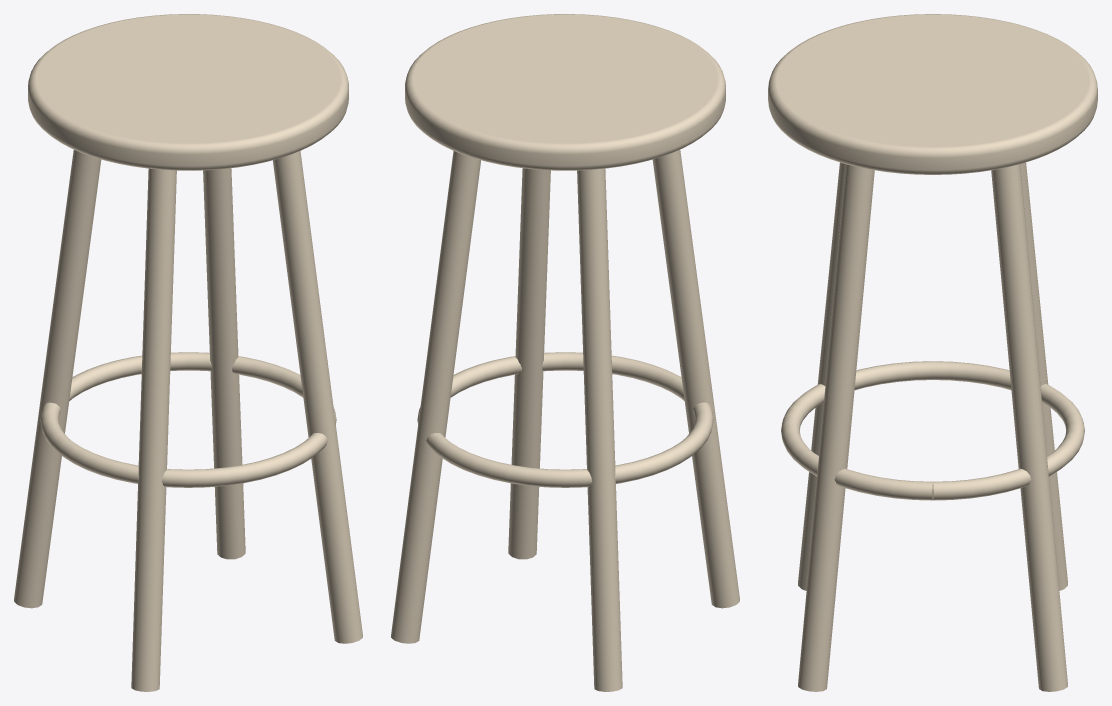
The model's file is stool_oak.glb.
3 renders of one model, left to right at view 1: azimuth 30°, elevation 25°; view 2: azimuth 150°, elevation 25°; view 3: azimuth 270°, elevation 25°, orthographic. The views are drawn at different scales.
Parts seen in each view (by area): view 1: seat, leg2, leg3, leg1, leg0, footrest; view 2: seat, leg1, leg0, leg2, leg3, footrest; view 3: seat, leg0, leg3, footrest, leg1, leg2.
Part boxes in pixels (x1,y1,x2,y2): seat: (28, 14, 348, 170); leg2: (131, 168, 176, 691); leg3: (273, 151, 362, 643); leg1: (14, 150, 101, 608); leg0: (203, 168, 245, 559); footrest: (40, 352, 336, 487); seat: (405, 14, 725, 170); leg1: (577, 168, 622, 691); leg0: (391, 151, 480, 643); leg2: (652, 150, 739, 608); leg3: (508, 168, 550, 559); footrest: (417, 352, 713, 487); seat: (768, 14, 1097, 174); leg0: (991, 164, 1067, 691); leg3: (798, 164, 874, 691); footrest: (781, 361, 1084, 500); leg1: (1020, 162, 1067, 590); leg2: (798, 162, 845, 590).
Size of the model in its own units: 0.35 by 0.6519 by 0.35.
